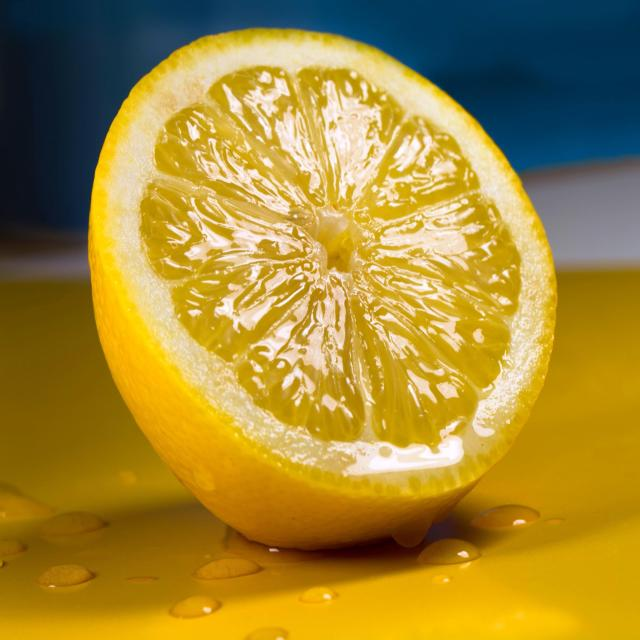lemon: (84, 22, 560, 555)
